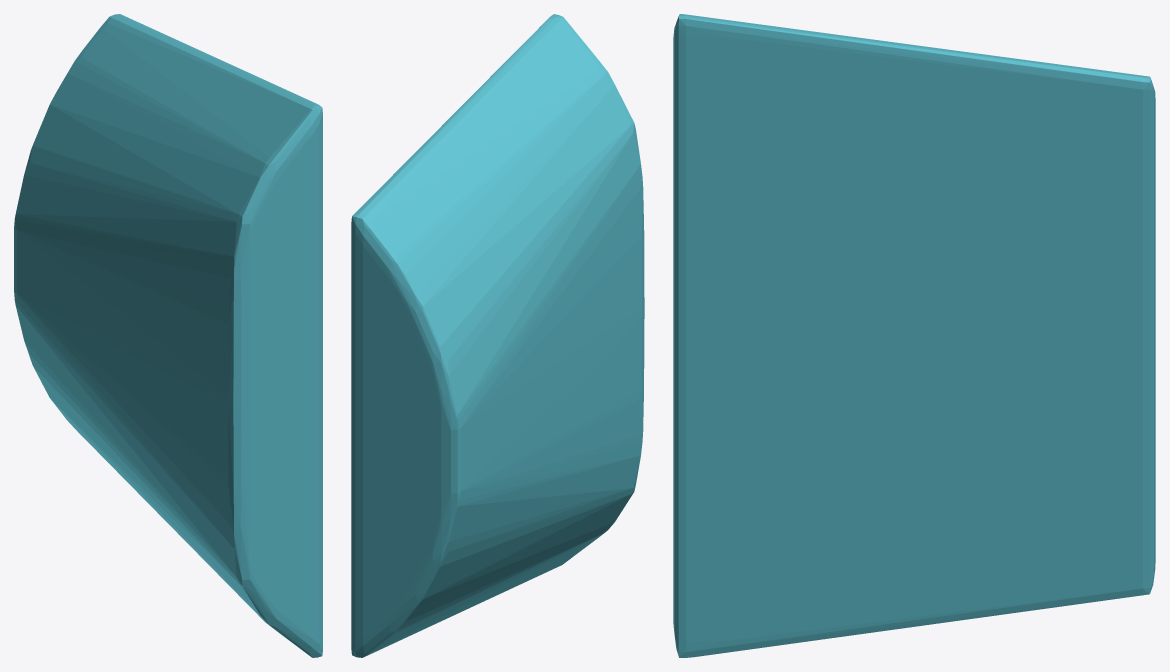
The model's file is right_th_middle_part_2.obj.
3 renders of one model, left to right at view 1: azimuth 30°, elevation 25°; view 2: azimuth 150°, elevation 25°; view 3: azimuth 270°, elevation 25°, orthographic. The views are drawn at different scales.
Size of the model in its own units: 3.97 by 19.39 by 13.26.
